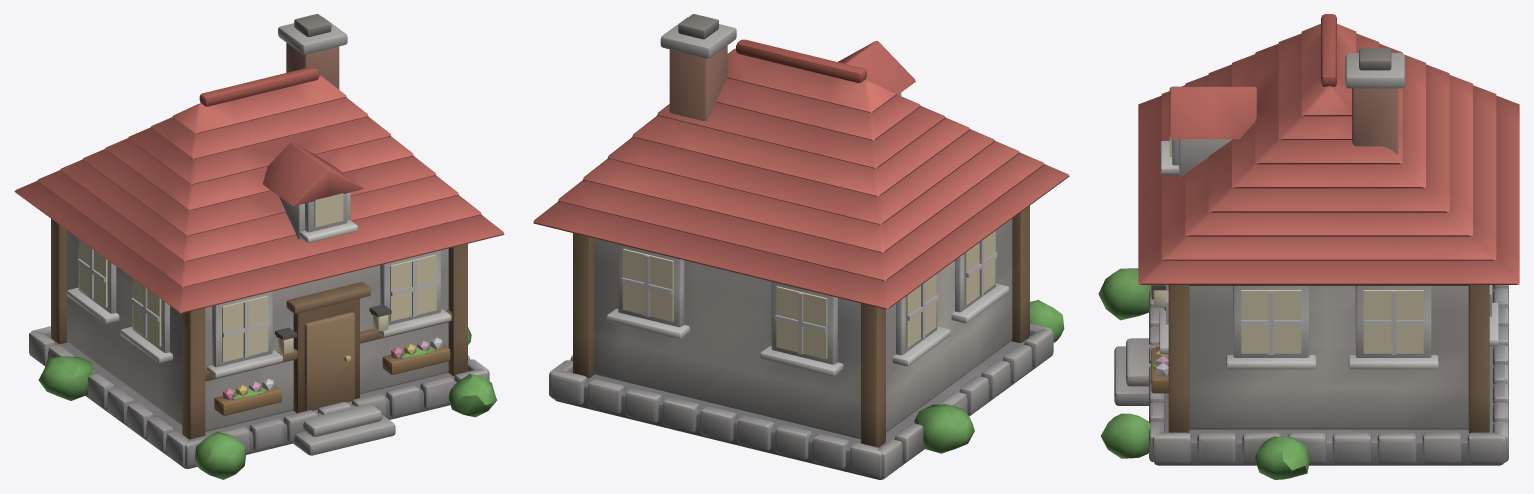
Rendered from home.glb.
3 views of the same model, side by side, from view 1: azimuth 30°, elevation 25°; view 2: azimuth 150°, elevation 25°; view 3: azimuth 270°, elevation 25° (orthographic). The views are drawn at different scales.
Visible parts, largest first — view 1: main, glow; view 2: main, glow; view 3: main, glow.
Part boxes in pixels (x1,y1,x2,y2): main: (14,14,504,479); glow: (79,193,436,362); main: (533,14,1069,479); glow: (622,231,995,359); main: (1098,14,1519,479); glow: (1153,136,1423,353).
Size of the model in its own units: 2.14 by 1.79 by 1.82.
